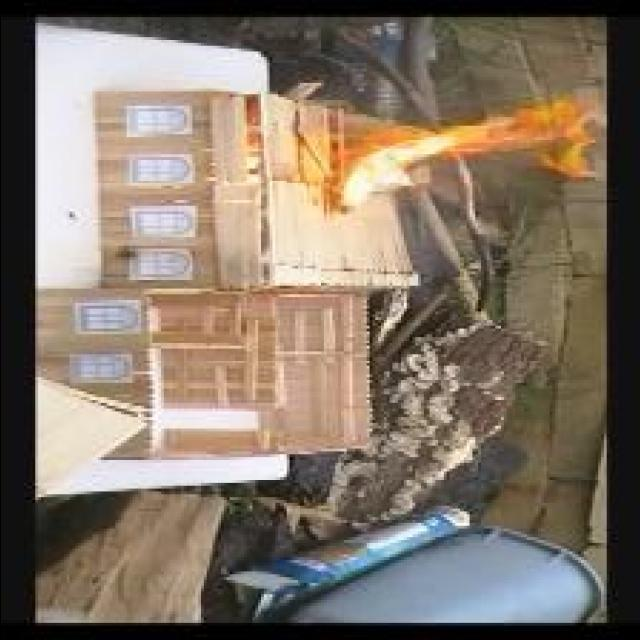Fire: (336, 94, 596, 208)
